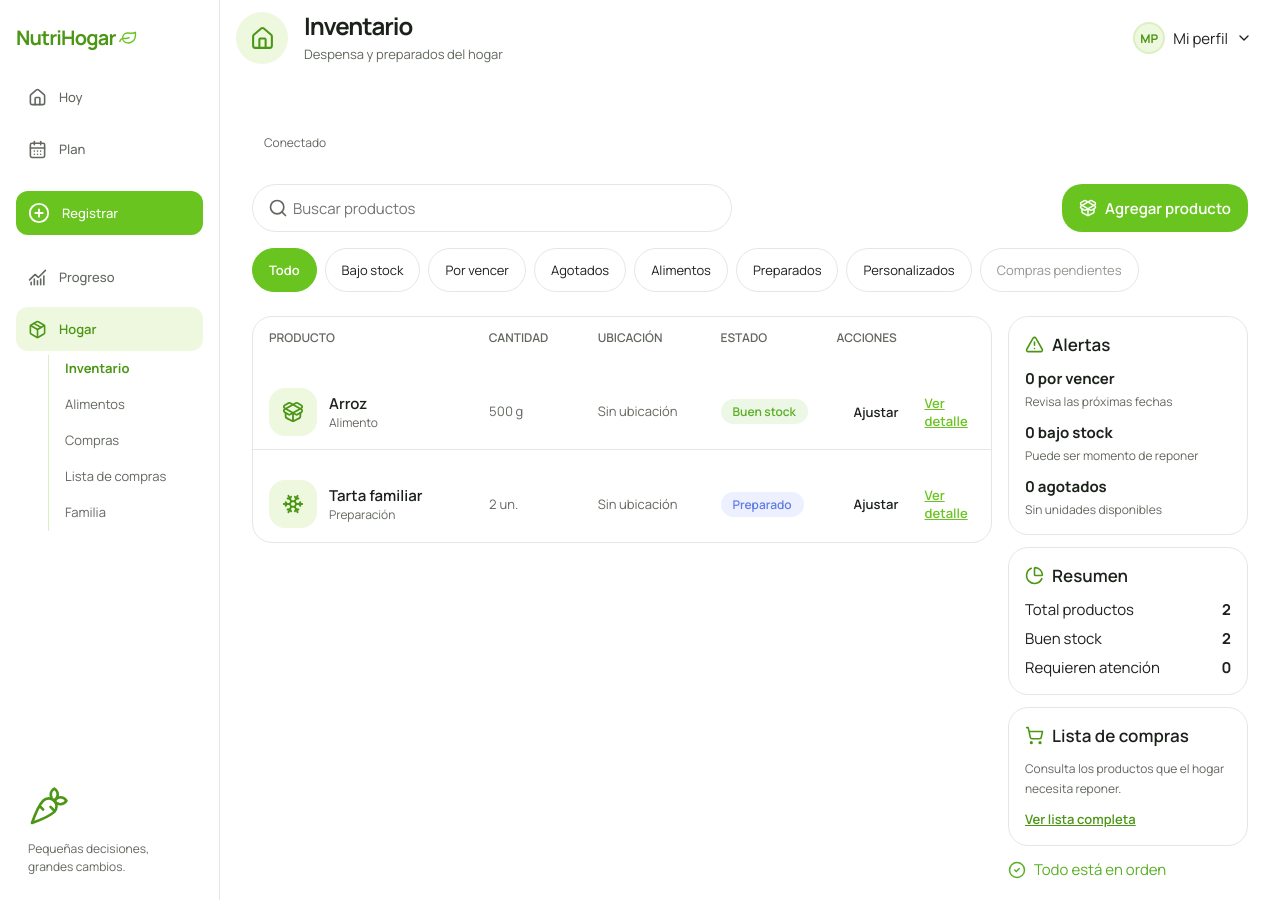
InventoryListPage › lists inventory and filters by type and search
Expected: the heading "Inventario" is shown, [304, 9, 412, 42]
Expected: the heading "Arroz" is shown, [329, 393, 367, 414]
Click the button "Preparados" at x=787, y=270, box [736, 248, 838, 292]
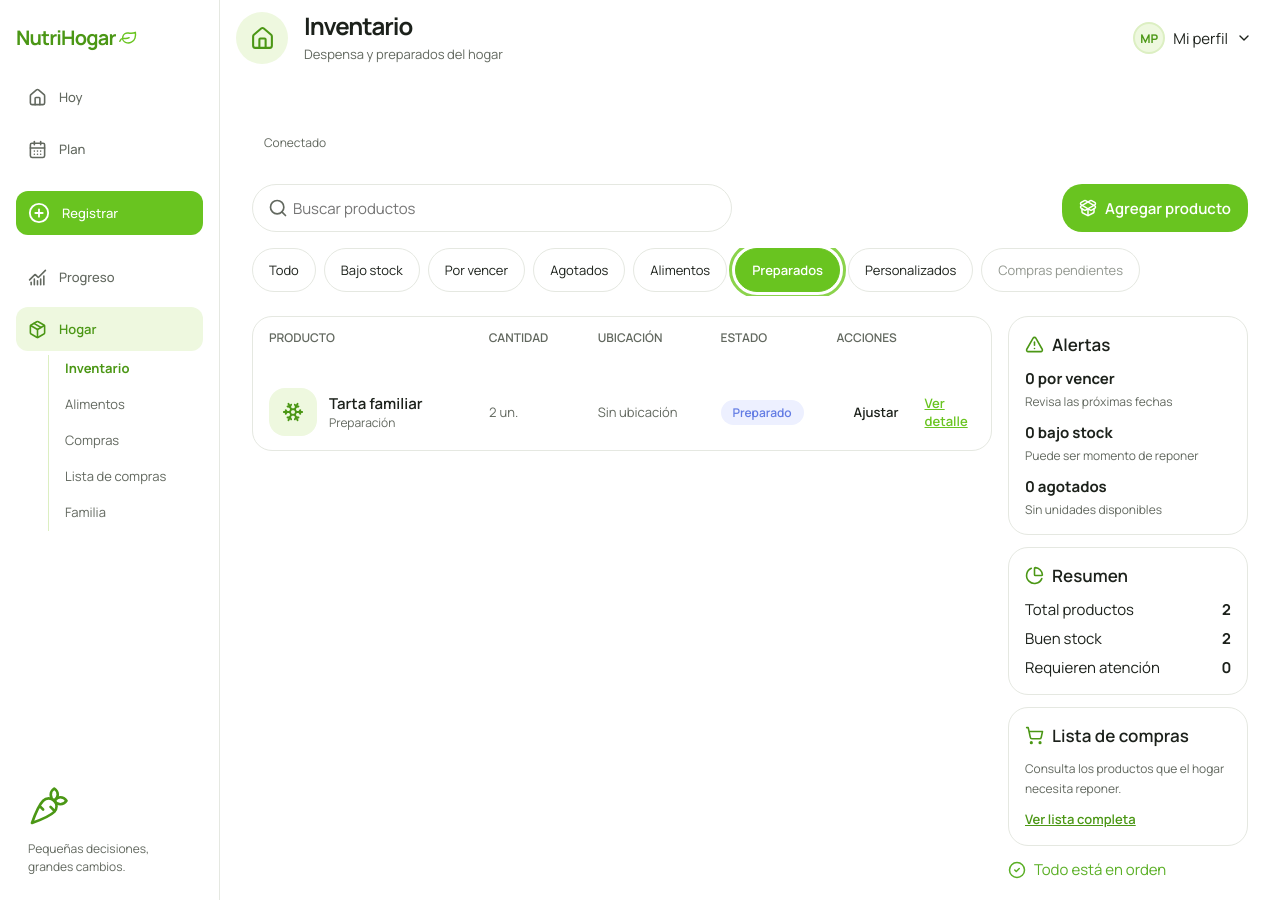
Expected: the heading "Tarta familiar" is shown, [329, 393, 423, 414]
Result: the heading "Arroz" is gone
Type "arroz" into the search field labelled "Buscar productos" at x=492, y=208, box [252, 184, 732, 232]
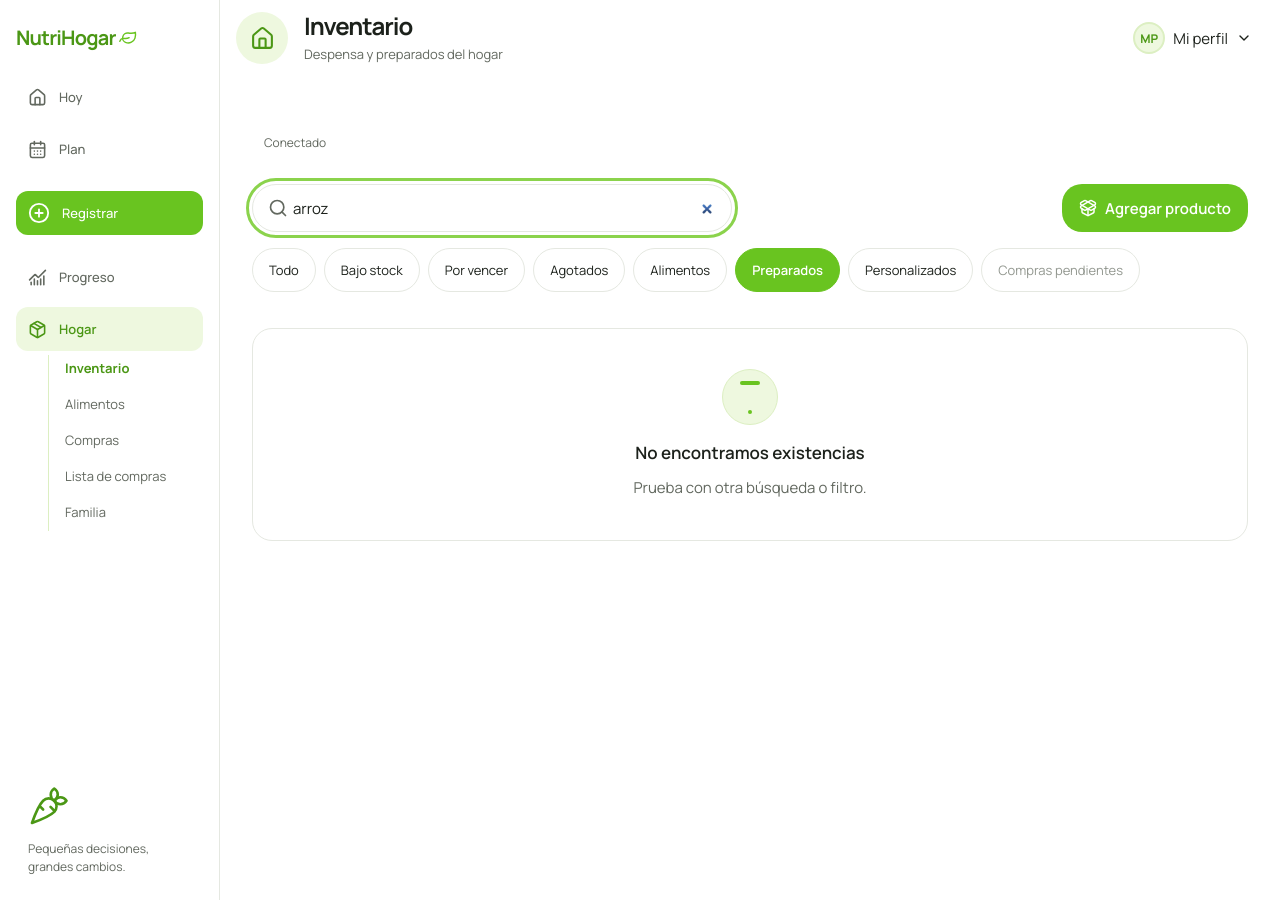
Result: the heading "No encontramos existencias" is shown at [635, 441, 865, 464]
